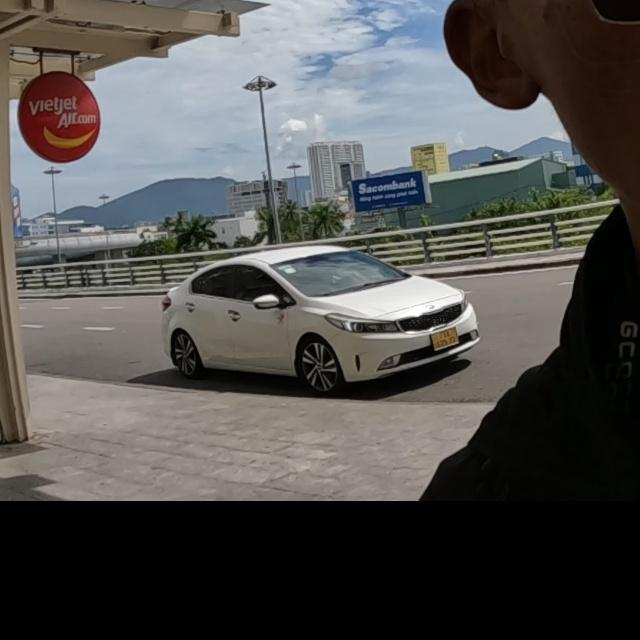license-plate: (431, 326, 460, 350)
